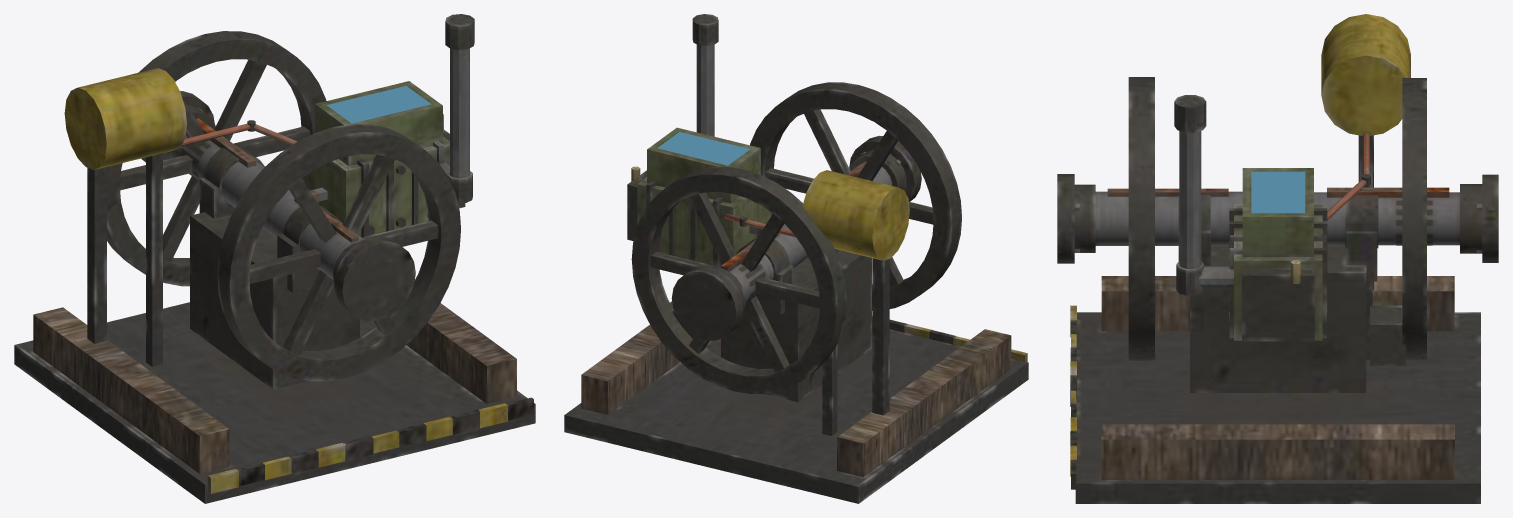
Rendered from feGasEngine.glb.
3 views of the same model, side by side, from view 1: azimuth 30°, elevation 25°; view 2: azimuth 150°, elevation 25°; view 3: azimuth 270°, elevation 25° (orthographic). The views are drawn at different scales.
Parts seen in each view (by area): view 1: feGasEngine_Base, FeSpin_EngineCrank; view 2: feGasEngine_Base, FeSpin_EngineCrank; view 3: feGasEngine_Base, FeSpin_EngineCrank.
Boxes of the visible parts, <box> form: feGasEngine_Base: <box>14,14,535,503</box>; FeSpin_EngineCrank: <box>107,31,460,381</box>; feGasEngine_Base: <box>564,14,1028,503</box>; FeSpin_EngineCrank: <box>631,82,961,393</box>; feGasEngine_Base: <box>1070,14,1480,503</box>; FeSpin_EngineCrank: <box>1057,77,1498,360</box>.
Bounding box in the file's own units: 0.951 × 0.9836 × 1.
2 materials, 1 textured.
